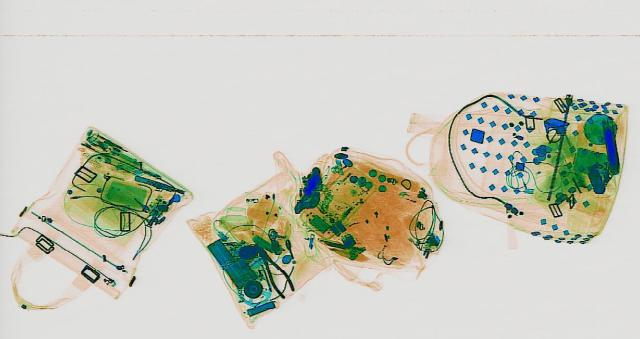Pliers: (244, 240, 302, 298)
